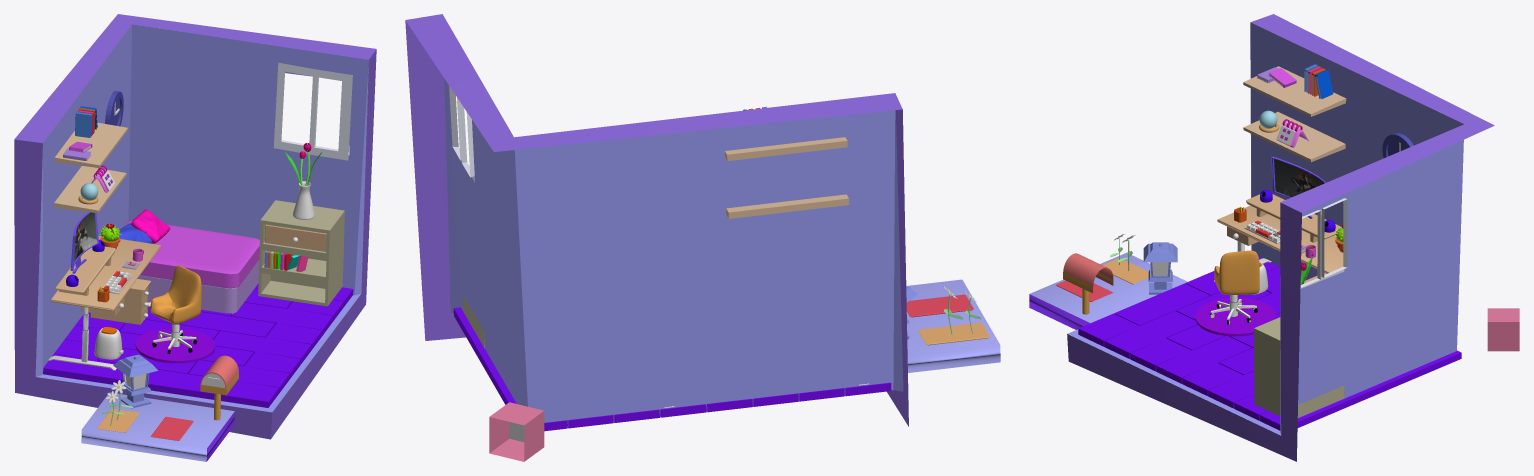
Rendered from Room.glb.
3 renders of one model, left to right at view 1: azimuth 30°, elevation 25°; view 2: azimuth 150°, elevation 25°; view 3: azimuth 270°, elevation 25°, orthographic. The views are drawn at different scales.
Visible parts, largest first — view 1: Body, drawer, Bed, Minifloor, shelve, floor.001, desk, tableitem, chair, Lamp, Mailbox, monitor (+3 smaller); view 2: Body, Minifloor, shelve, Cube, Floorsecond, Floorfirst; view 3: Body, shelve, Minifloor, drawer, floor.001, desk, tableitem, chair, Cube, Mailbox, monitor, Lamp (+2 smaller).
Boxes of the visible parts, bbox=[...] form: Body: bbox=[14, 14, 376, 439]; drawer: bbox=[258, 143, 344, 306]; Bed: bbox=[119, 209, 259, 314]; Minifloor: bbox=[81, 392, 234, 461]; shelve: bbox=[54, 106, 127, 213]; floor.001: bbox=[90, 279, 214, 363]; desk: bbox=[48, 236, 160, 370]; tableitem: bbox=[55, 224, 143, 302]; chair: bbox=[150, 265, 201, 323]; Lamp: bbox=[113, 354, 157, 408]; Mailbox: bbox=[200, 355, 238, 420]; monitor: bbox=[70, 212, 98, 273]; Body: bbox=[405, 14, 908, 431]; Minifloor: bbox=[906, 279, 1000, 372]; shelve: bbox=[725, 106, 849, 218]; Cube: bbox=[489, 402, 544, 461]; Floorsecond: bbox=[918, 322, 989, 345]; Floorfirst: bbox=[906, 294, 973, 317]; Body: bbox=[1067, 14, 1494, 461]; shelve: bbox=[1243, 64, 1346, 162]; Minifloor: bbox=[1029, 252, 1187, 329]; drawer: bbox=[1254, 258, 1344, 417]; floor.001: bbox=[1195, 262, 1326, 336]; desk: bbox=[1214, 205, 1343, 281]; tableitem: bbox=[1234, 190, 1343, 258]; chair: bbox=[1214, 250, 1259, 294]; Cube: bbox=[1487, 308, 1519, 351]; Mailbox: bbox=[1063, 253, 1113, 314]; monitor: bbox=[1271, 156, 1325, 218]; Lamp: bbox=[1143, 242, 1177, 294].
Size of the model in its own units: 6.47 by 4.3 by 7.07.
108 materials, 1 textured.
